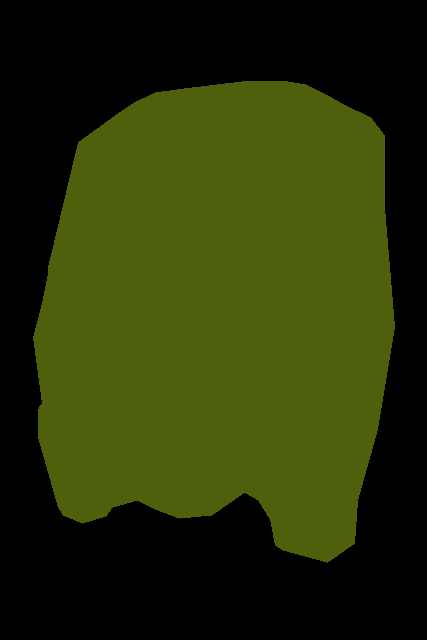Train: (33, 81, 394, 563)
